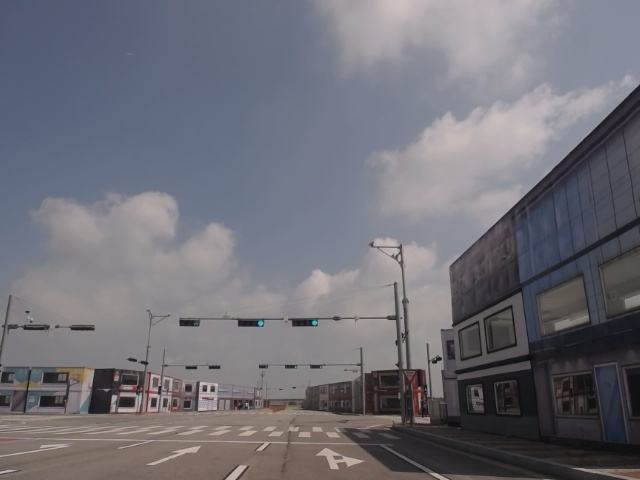straight_green_4: (238, 319, 264, 327), (292, 319, 318, 326)
